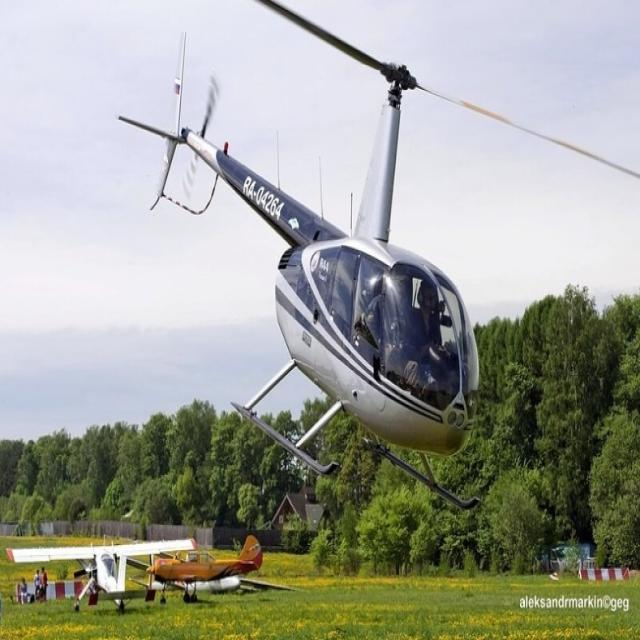CIV_HELO: (113, 26, 485, 512)
